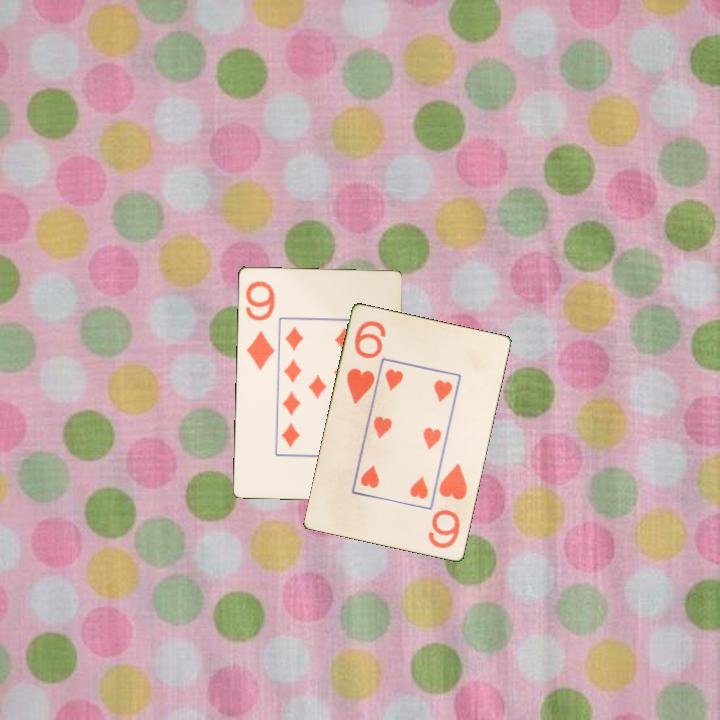6h: (425, 460, 470, 552), (343, 317, 389, 407)
9d: (241, 277, 278, 373)
